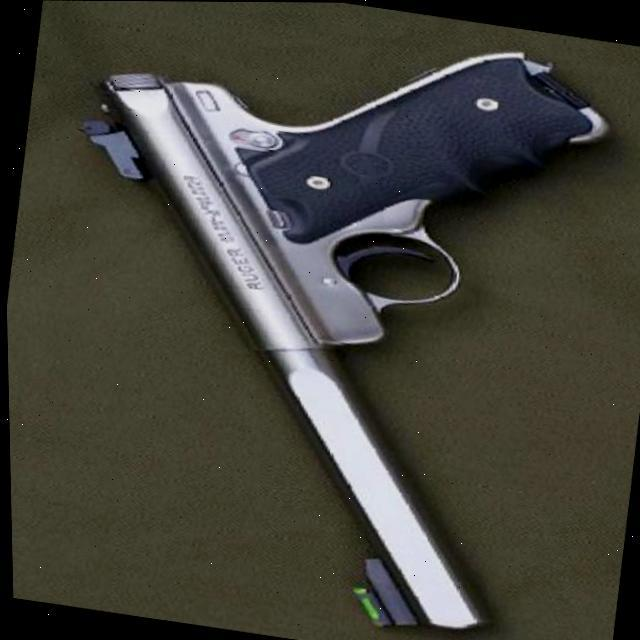gun: (12, 0, 626, 640)
